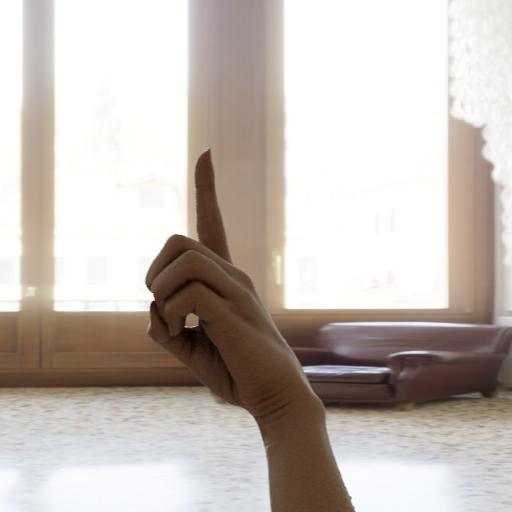D: (143, 148, 317, 408)
